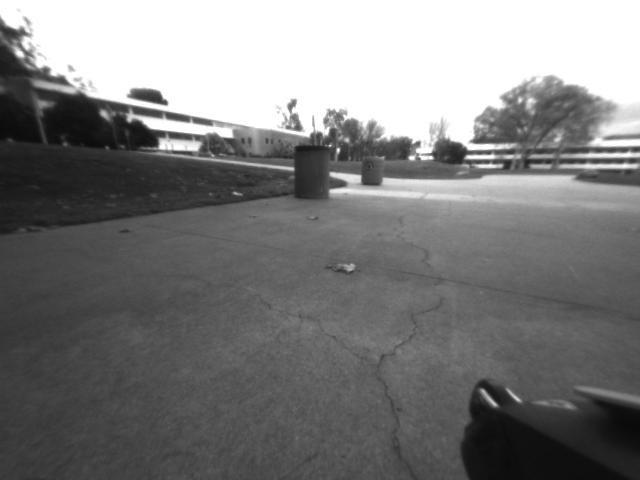trashcan: (292, 143, 337, 196), (363, 153, 386, 188)
